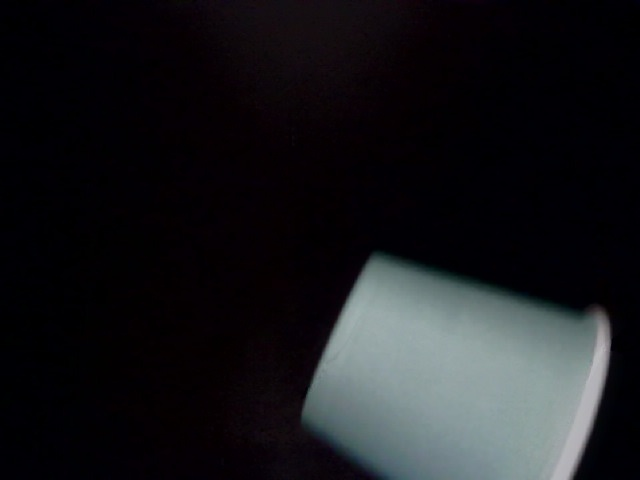KHSLJ: (166, 208, 640, 476)
